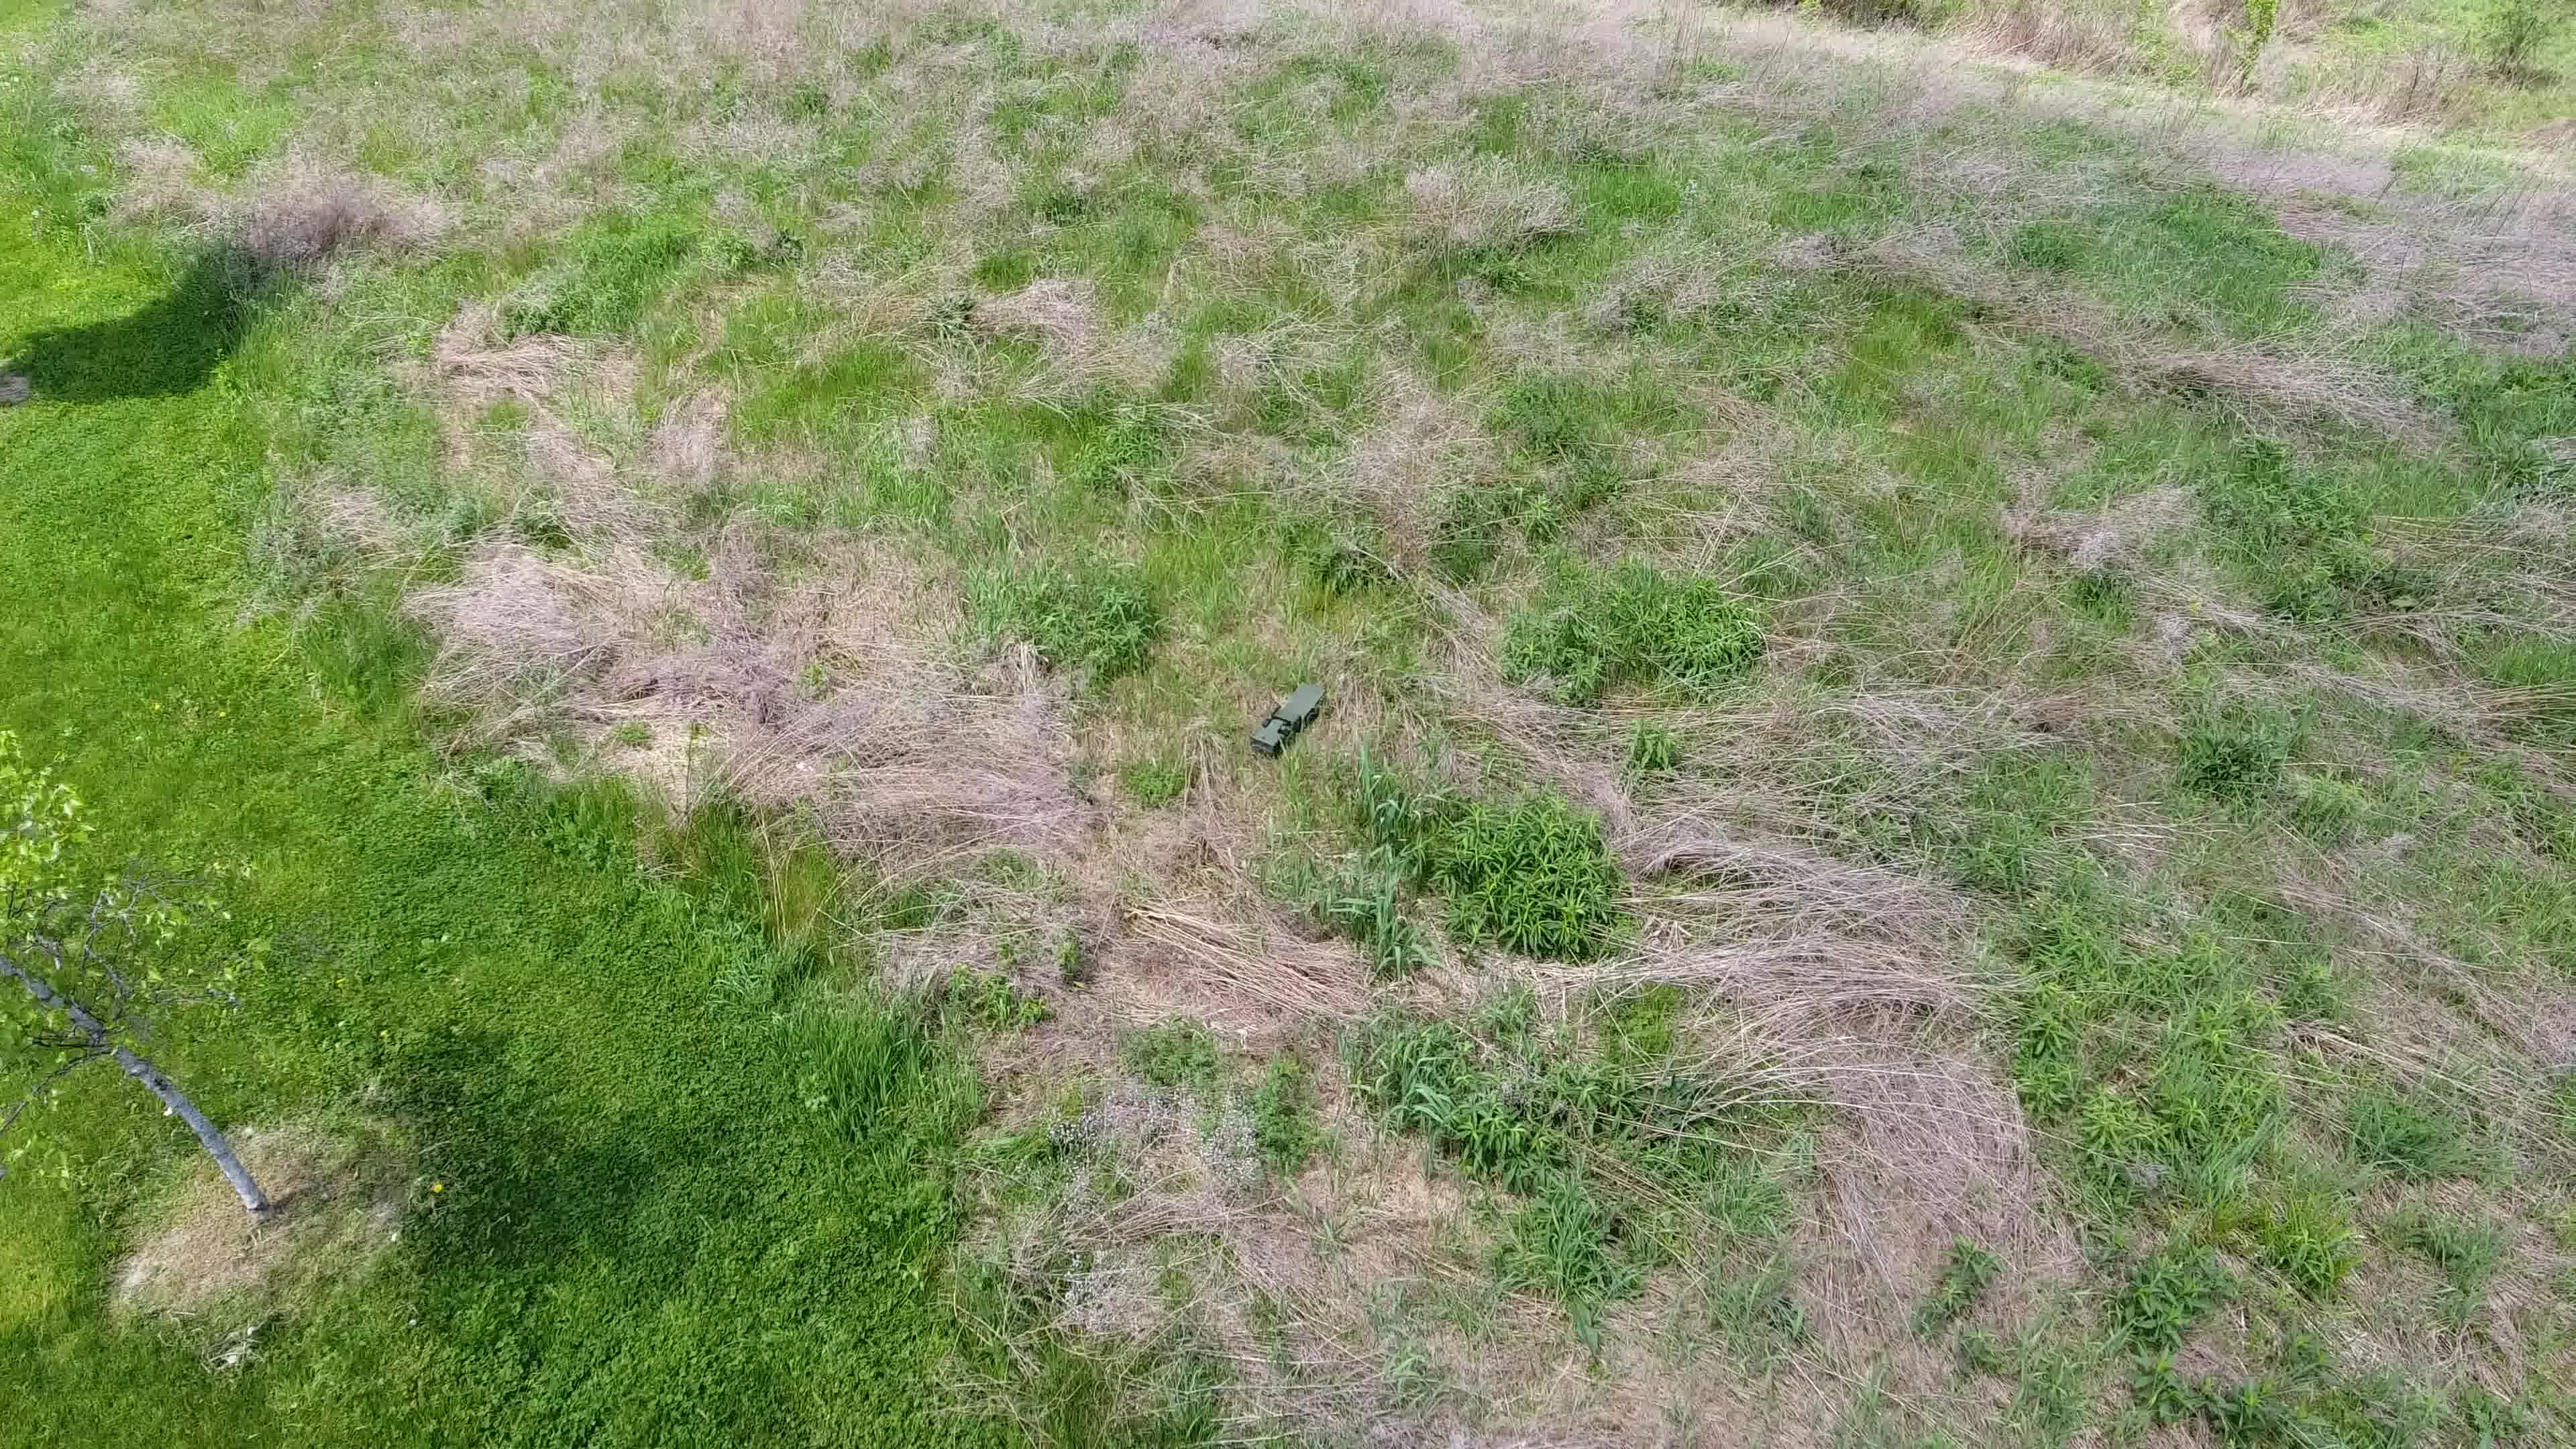transporter9: (1247, 676, 1329, 759)
